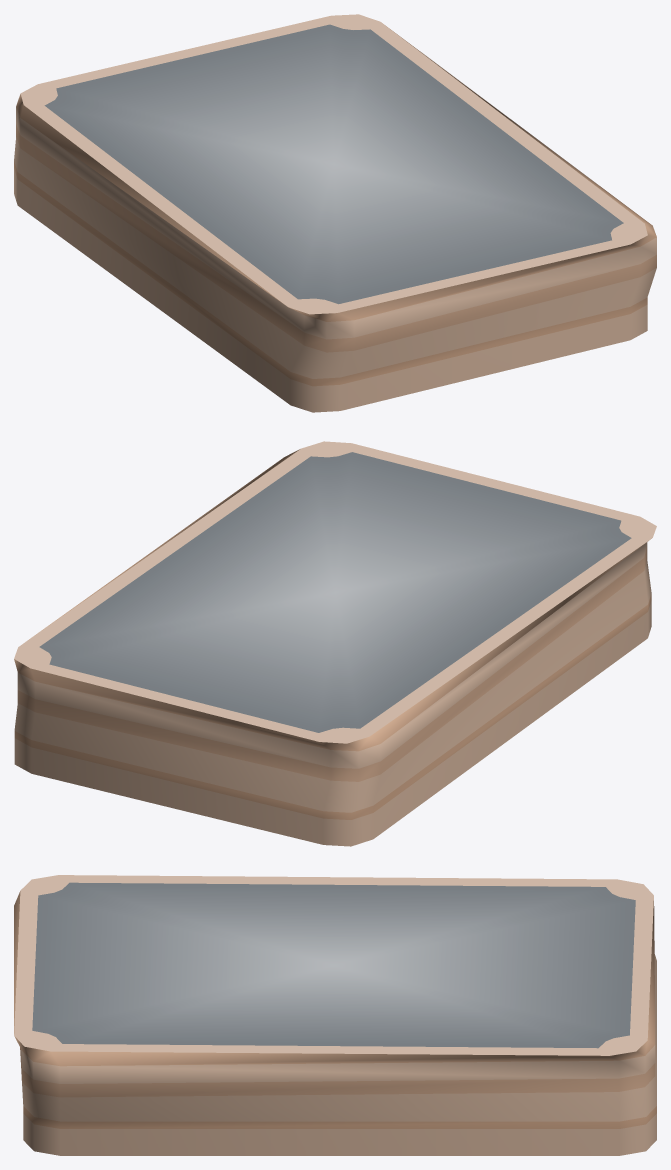
The model's file is TarotCardStack1.fbx.
The picture shows the model from 3 angles, top to bottom: view 1: azimuth 30°, elevation 25°; view 2: azimuth 150°, elevation 25°; view 3: azimuth 270°, elevation 25°; orthographic projection. The views are drawn at different scales.
Visible parts, largest first — view 1: TarotCardStack1; view 2: TarotCardStack1; view 3: TarotCardStack1.
Part boxes in pixels (x1,y1,x2,y2): TarotCardStack1: (14, 14, 656, 412); TarotCardStack1: (14, 441, 656, 846); TarotCardStack1: (14, 875, 656, 1155).
Bounding box in the file's own units: 6 × 1.57 × 8.93.
